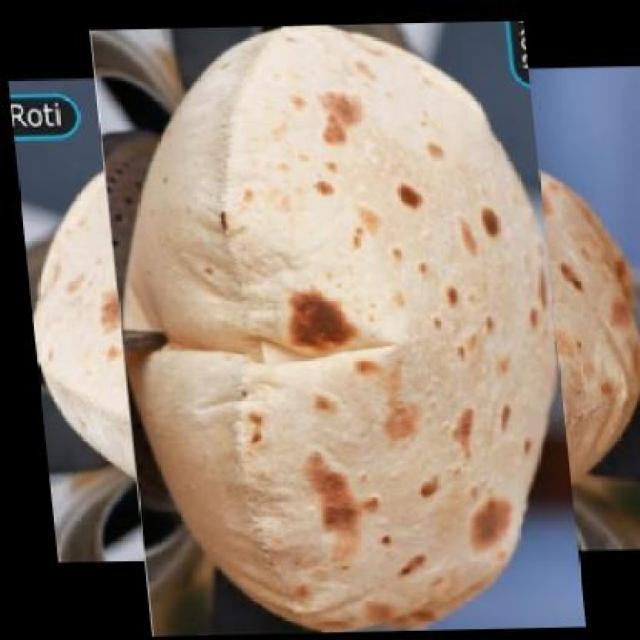chapati: (50, 67, 615, 598)
